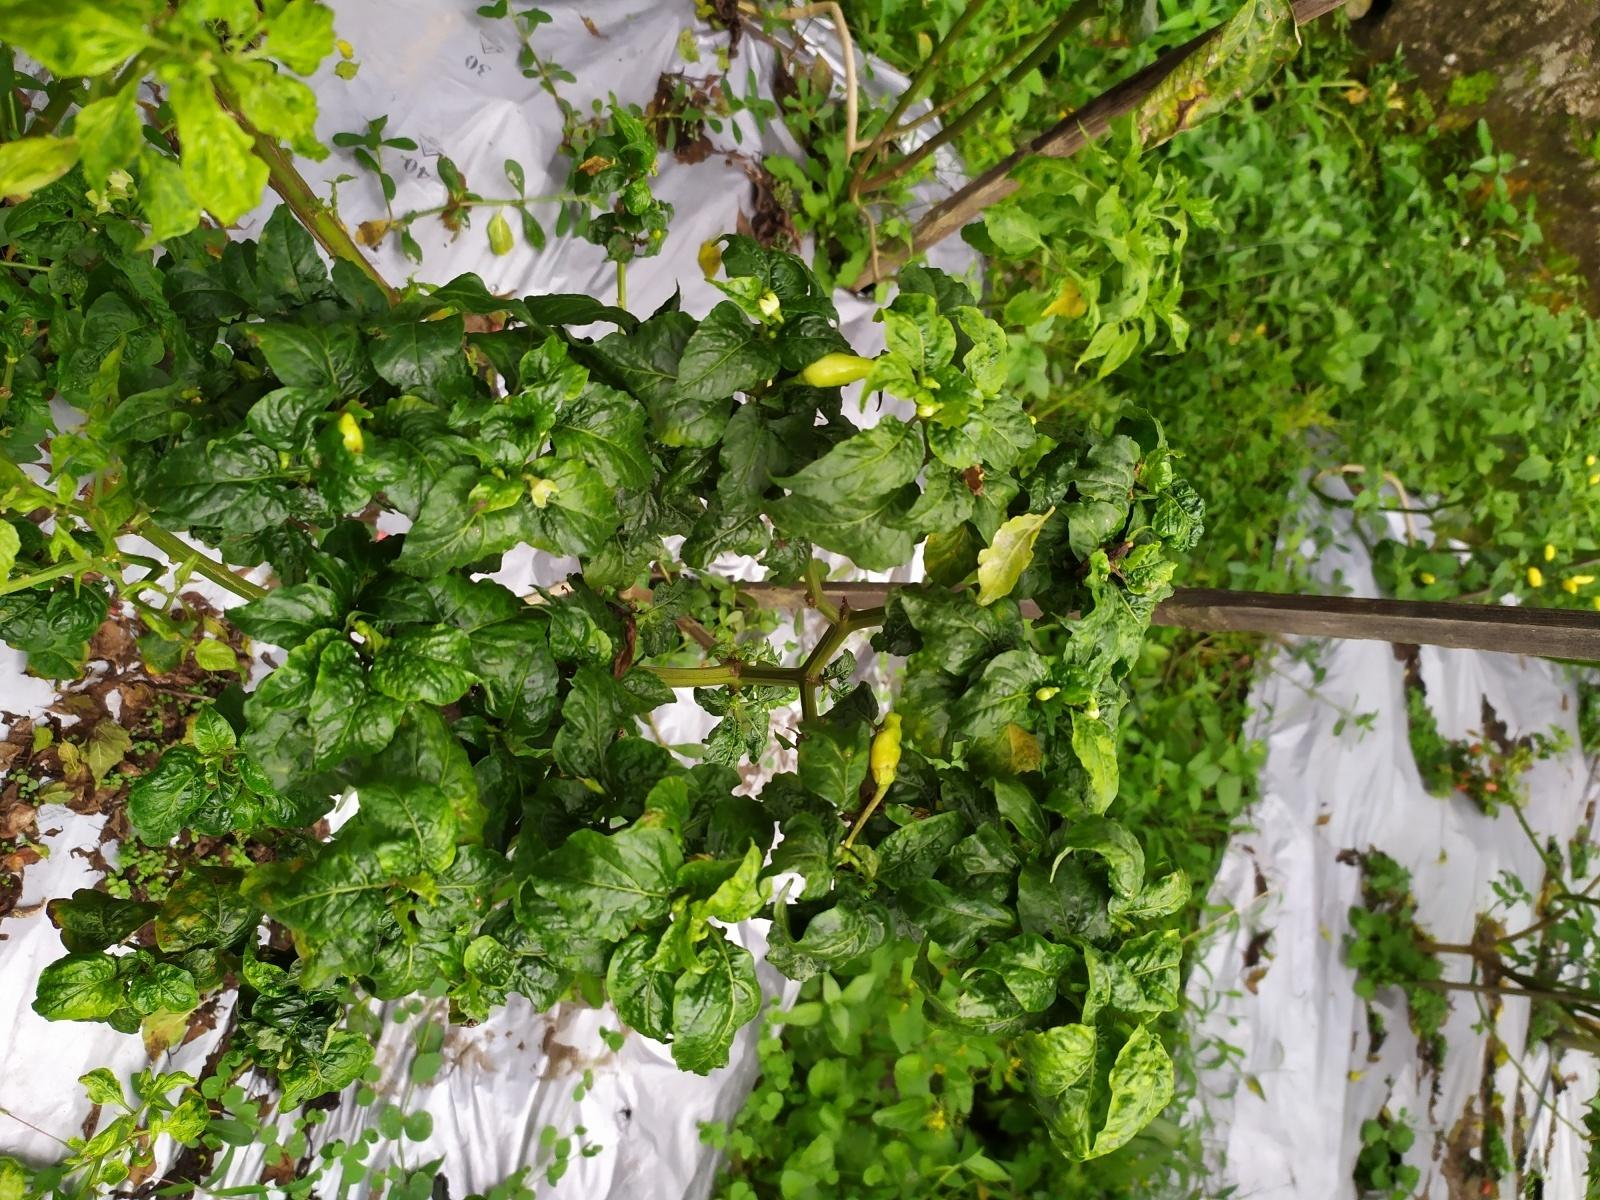cabai_normal: (800, 352, 876, 389), (871, 712, 903, 782)
